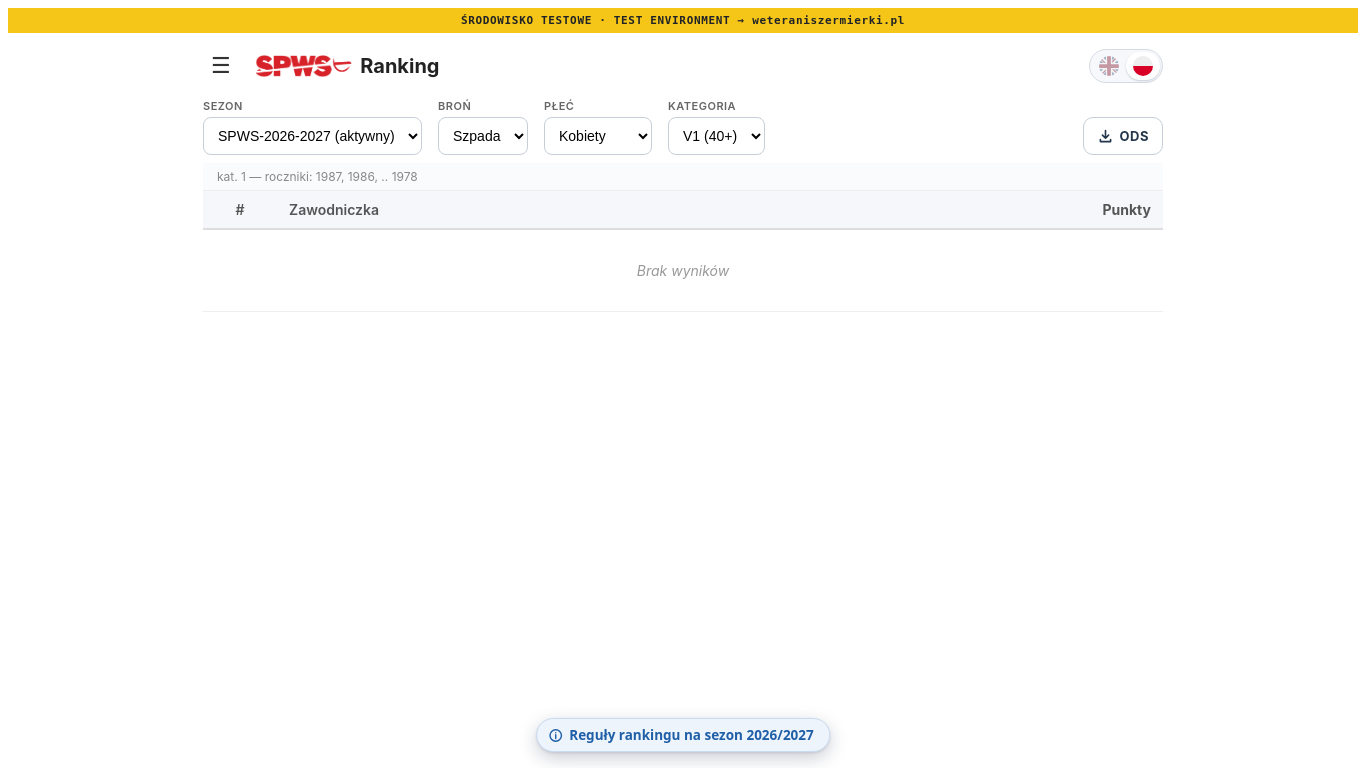
Test: SR.LINK — the chosen season's rules, one click from the list › SR.LINK.02 the link follows the season dropdown
This screenshot has width=1366, height=768.
Expected: the text "kat. 1 — roczniki: 1987, 1986, .. 1978" is shown, top-left (203, 163), bottom-right (1163, 191)
Expected: the button with class "rules-link" is shown, top-left (536, 718), bottom-right (830, 752)
Select "SPWS-2025-2026" in the dropdown with class "season-select" at (312, 136), box top-left (203, 117), bottom-right (422, 155)
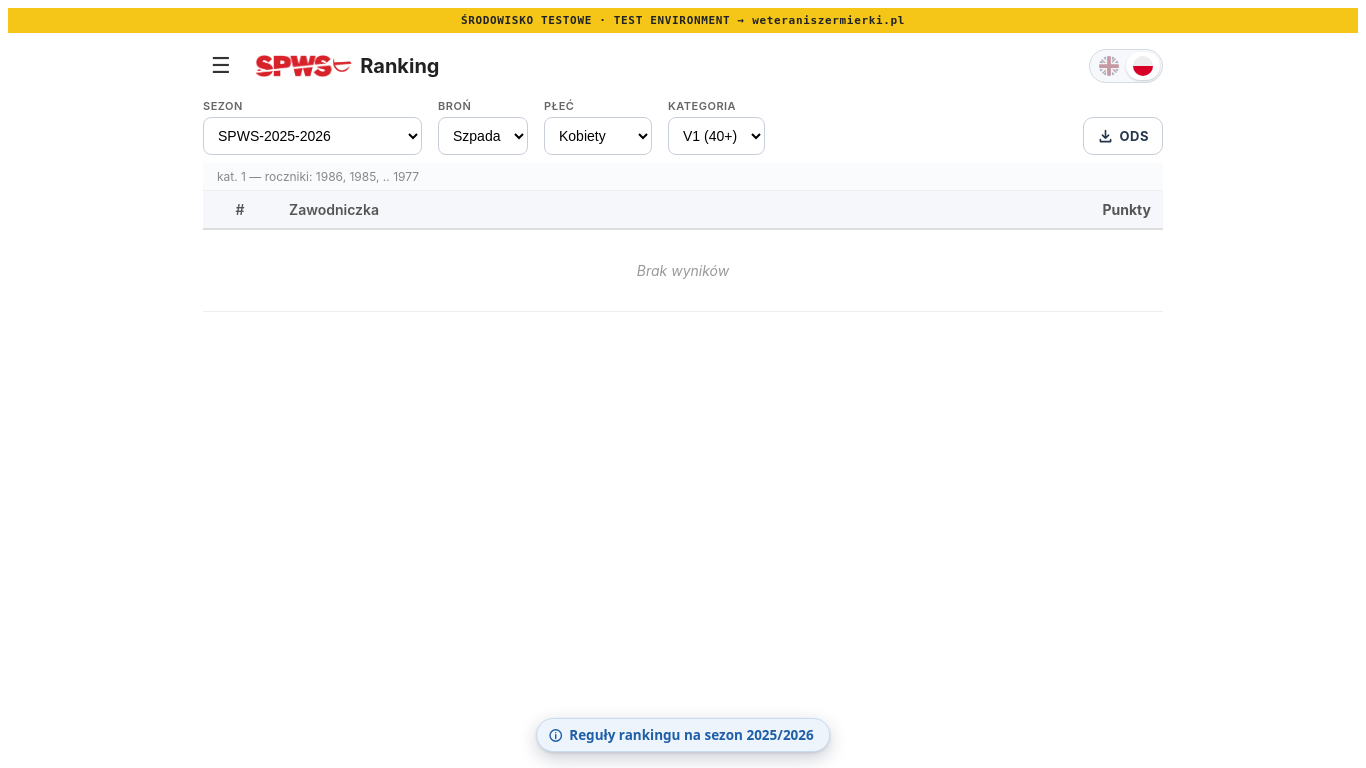
Now the button with class "rules-link" reads "Reguły rankingu na sezon 2025/2026", box top-left (536, 718), bottom-right (830, 752)
